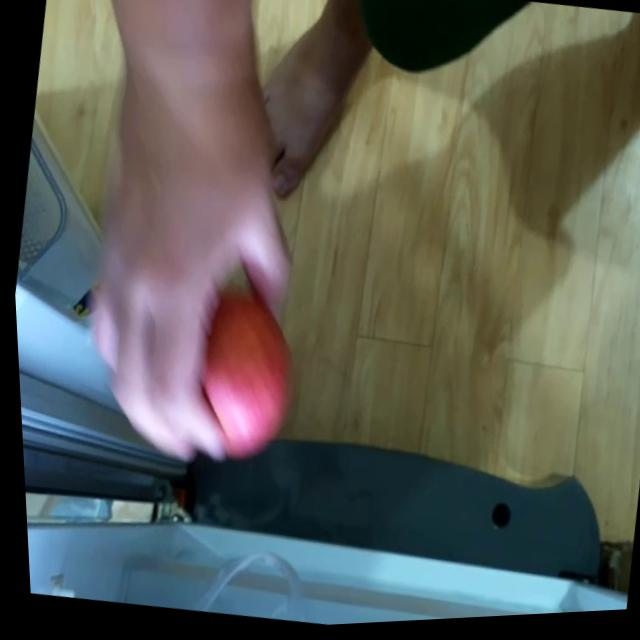apple: (174, 285, 303, 461)
